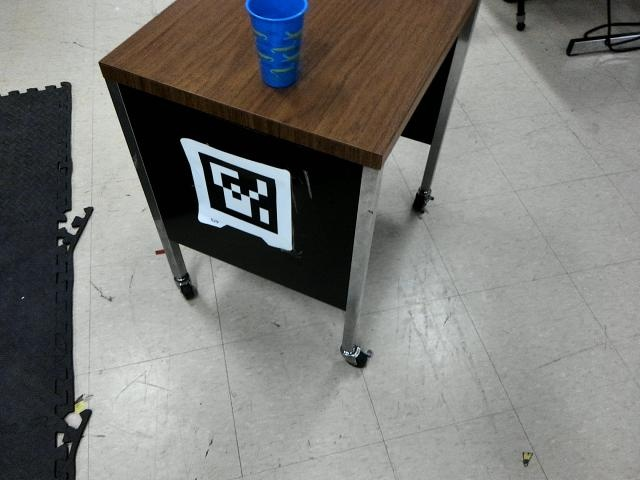water_cup: (243, 1, 319, 91)
